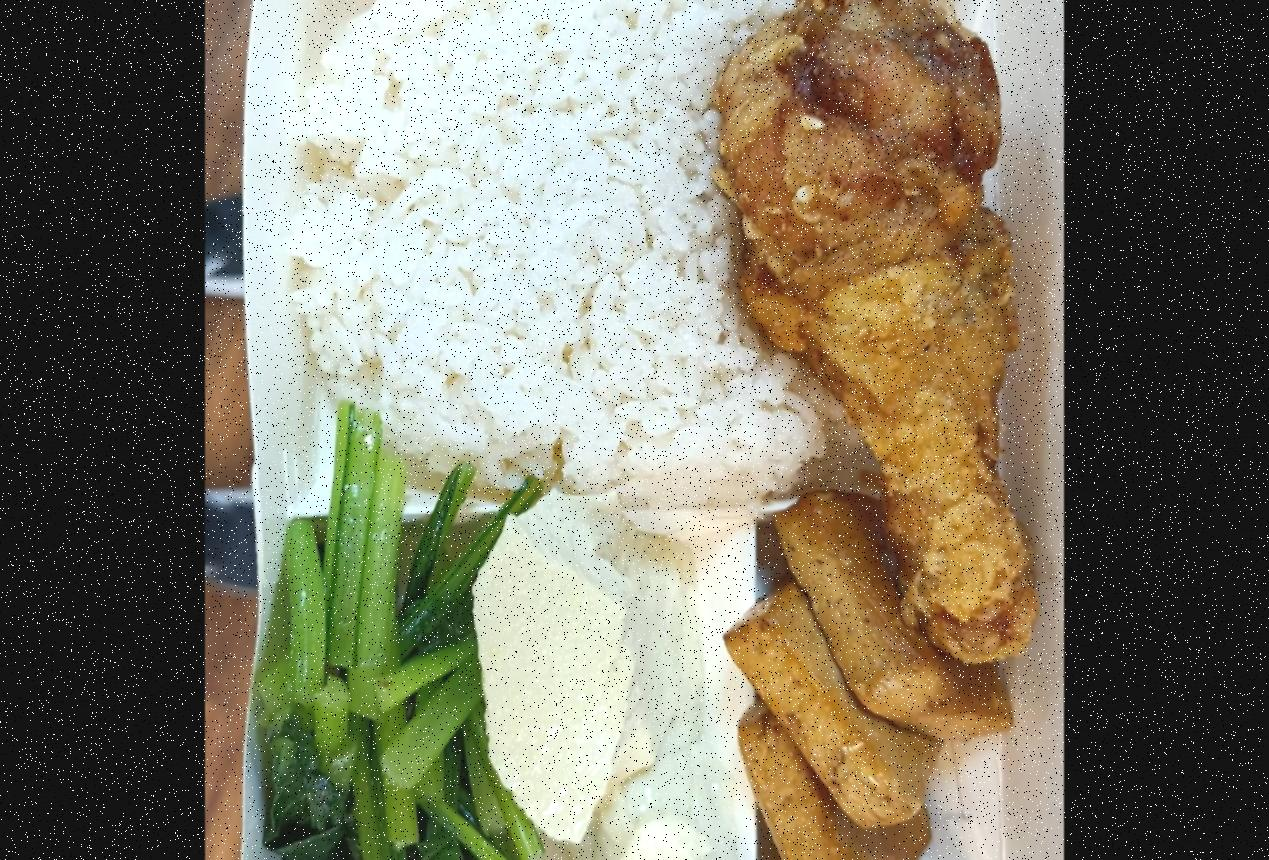box: (221, 0, 1020, 860)
side dish: (250, 475, 521, 860), (730, 516, 1004, 860), (476, 508, 736, 860)
small fried chicken leg: (717, 0, 1047, 660)
white rice: (279, 0, 832, 501)
